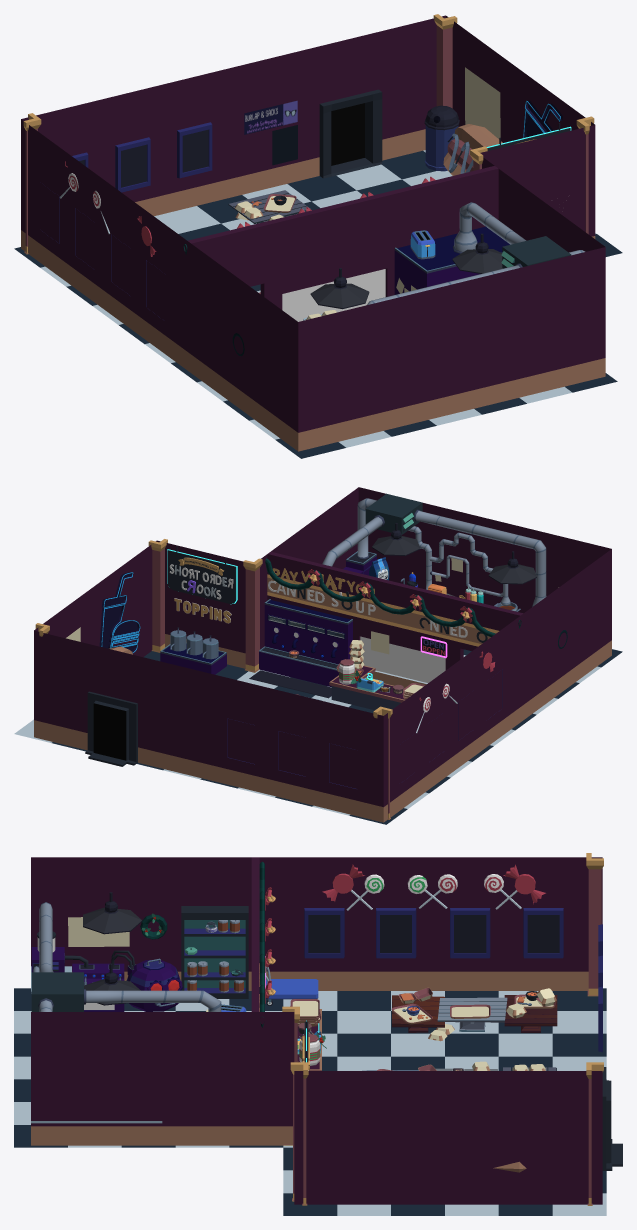
Rendered from INT_PWUCSUP_SeasonsGriftings.fbx.
3 views of the same model, one above another, from view 1: azimuth 30°, elevation 25°; view 2: azimuth 150°, elevation 25°; view 3: azimuth 270°, elevation 25° (orthographic). The views are drawn at different scales.
Parts seen in each view (by area): view 1: Walls.009, Floor.006, RivensAutomagicSoupPipes.001, RivensAutomagicSoupDispenser.001, Empty.Signs.030, Empty.Signs.037, Empty.Signs.036, TrashCan.001, OldHotdog.001, Lights.050, Poster.057, Lights.049 (+4 smaller); view 2: Walls.009, RivensAutomagicSoupPipes.001, RivensAutomagicSoupDispenser.001, Floor.006, Text.067, Torus.075, Burger Sign, CannedSoup.001, Counter, ToppinsTable.001, rug.011, Lights.050 (+4 smaller); view 3: Walls.009, Floor.006, Shelf.002, RivensAutomagicSoupPipes.001, Empty.Signs.031, Empty.Signs.034, Empty.Signs.032, Empty.Signs.033, RivensAutomagicAstraConverter.003, ScrapTable.011, Torus.075, Lights.050 (+13 smaller).
Part boxes in pixels (left/top/right/bottom): Walls.009: left=21, top=14, right=605, bottom=451; Floor.006: left=14, top=150, right=622, bottom=458; RivensAutomagicSoupPipes.001: left=367, top=202, right=585, bottom=304; RivensAutomagicSoupDispenser.001: left=394, top=226, right=509, bottom=294; Empty.Signs.030: left=465, top=67, right=500, bottom=139; Empty.Signs.037: left=177, top=122, right=212, bottom=178; Empty.Signs.036: left=115, top=137, right=150, bottom=192; TrashCan.001: left=424, top=105, right=459, bottom=171; OldHotdog.001: left=443, top=124, right=502, bottom=175; Lights.050: left=310, top=268, right=369, bottom=309; Poster.057: left=244, top=100, right=297, bottom=134; Lights.049: left=452, top=233, right=502, bottom=273; Walls.009: left=34, top=487, right=611, bottom=822; RivensAutomagicSoupPipes.001: left=322, top=493, right=546, bottom=606; RivensAutomagicSoupDispenser.001: left=259, top=599, right=352, bottom=686; Floor.006: left=14, top=649, right=622, bottom=824; Text.067: left=167, top=546, right=237, bottom=604; Torus.075: left=265, top=558, right=521, bottom=636; Burger Sign: left=99, top=572, right=140, bottom=652; CannedSoup.001: left=268, top=568, right=487, bottom=642; Counter: left=329, top=665, right=405, bottom=710; ToppinsTable.001: left=160, top=643, right=226, bottom=674; rug.011: left=249, top=670, right=331, bottom=698; Lights.050: left=488, top=551, right=536, bottom=584; Walls.009: left=31, top=853, right=622, bottom=1205; Floor.006: left=14, top=988, right=606, bottom=1215; Shelf.002: left=181, top=906, right=248, bottom=998; RivensAutomagicSoupPipes.001: left=31, top=902, right=221, bottom=1011; Empty.Signs.031: left=304, top=908, right=344, bottom=958; Empty.Signs.034: left=523, top=908, right=563, bottom=958; Empty.Signs.032: left=376, top=908, right=416, bottom=958; Empty.Signs.033: left=450, top=908, right=490, bottom=958; RivensAutomagicAstraConverter.003: left=111, top=950, right=183, bottom=1011; ScrapTable.011: left=437, top=997, right=507, bottom=1031; Torus.075: left=259, top=861, right=275, bottom=1027; Lights.050: left=83, top=892, right=142, bottom=934.
Size of the model in its own units: 2061 by 598 by 2330.
